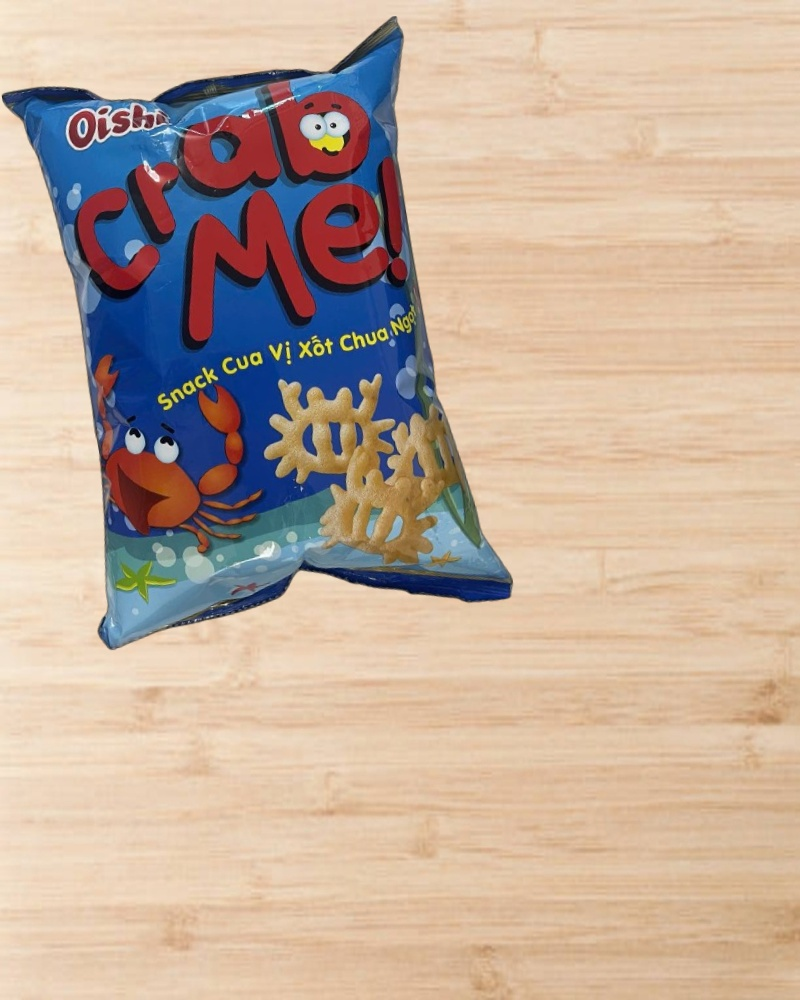Snack chay: (1, 14, 516, 672)
